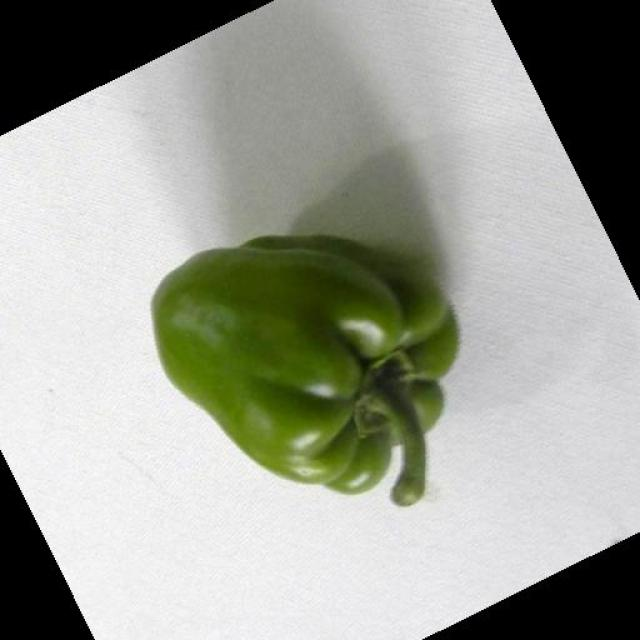Fresh_Capsicum: (142, 244, 462, 516)
